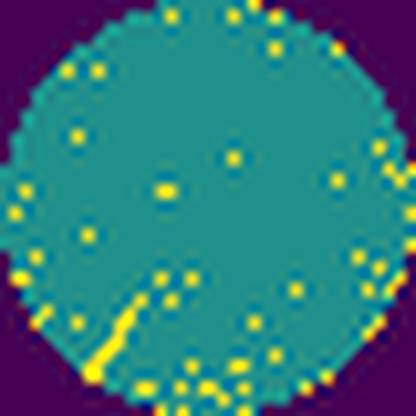Scratch: (86, 287, 156, 382)
